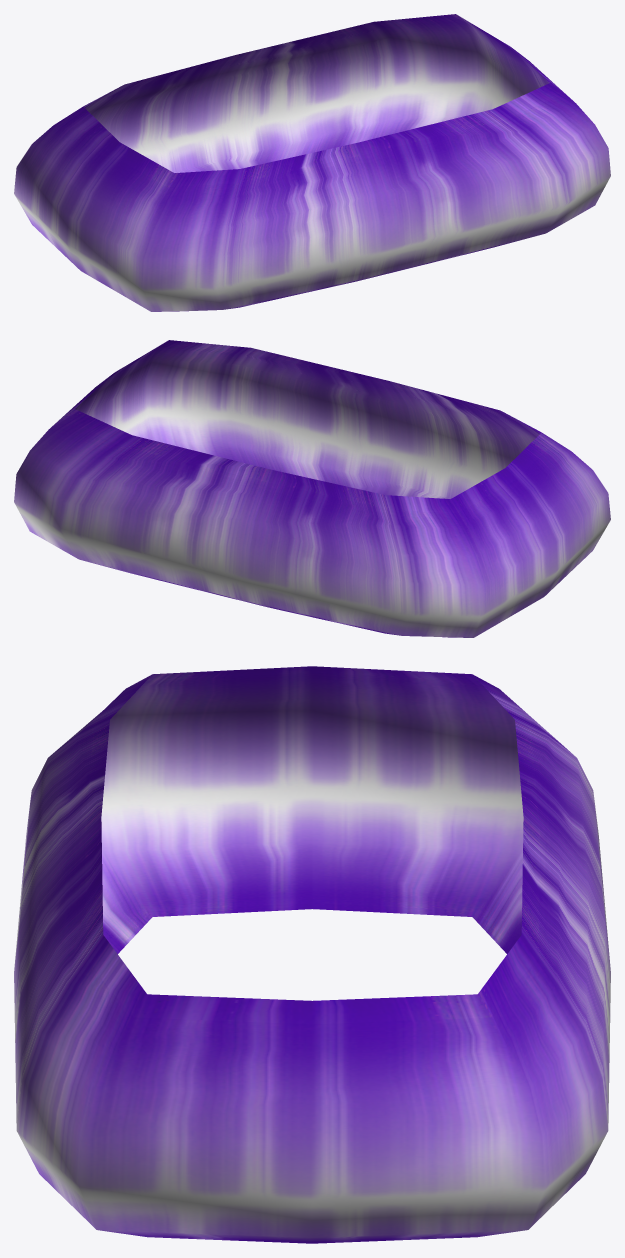
The model's file is medium_unit_plasma.obj.
3 renders of one model, top to bottom at view 1: azimuth 30°, elevation 25°; view 2: azimuth 150°, elevation 25°; view 3: azimuth 270°, elevation 25°, orthographic. The views are drawn at different scales.
Parts seen in each view (by area): view 1: pSphere11; view 2: pSphere11; view 3: pSphere11.
Boxes of the visible parts, <box> form: pSphere11: <box>14,14,610,311</box>; pSphere11: <box>14,340,610,637</box>; pSphere11: <box>14,666,610,1243</box>.
Size of the model in its own units: 48.35 by 13.15 by 29.3.
Materials: 1 (1 with a texture image).
